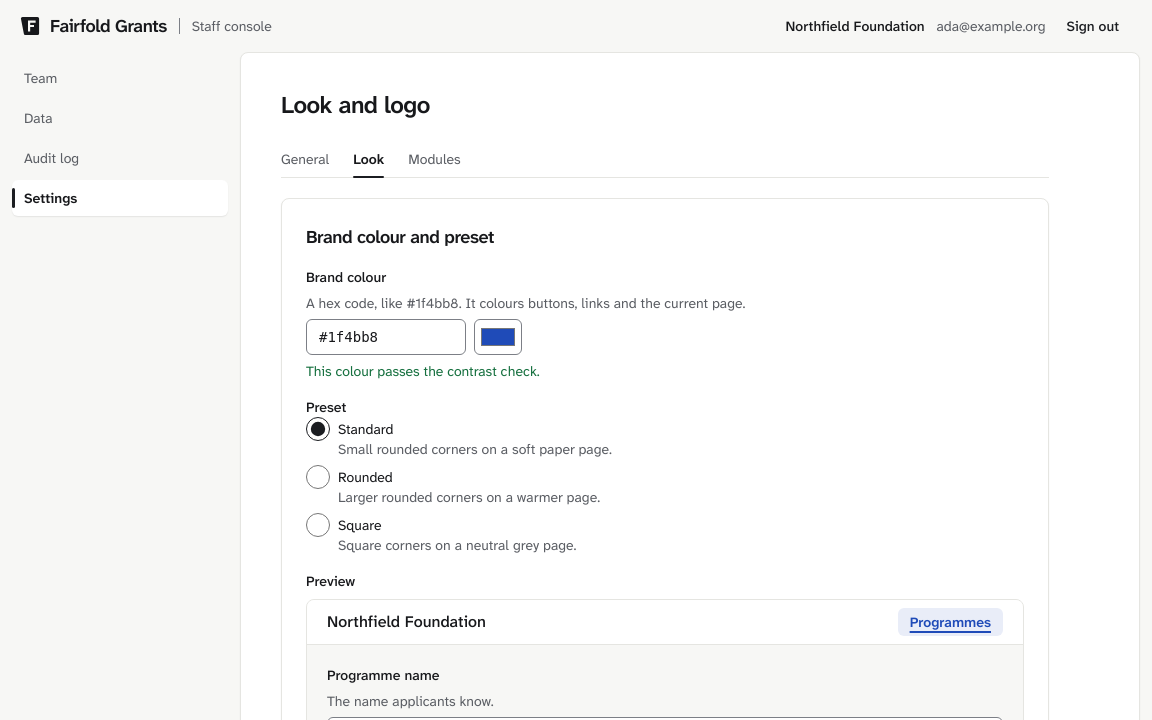
Test case: the look page › refuses a colour that is too light as it is typed: the words, the contrast found and a colour to use
Replace the text in the field labelled "Brand colour" with "#ffee00": (386, 337) [306,319,466,355]
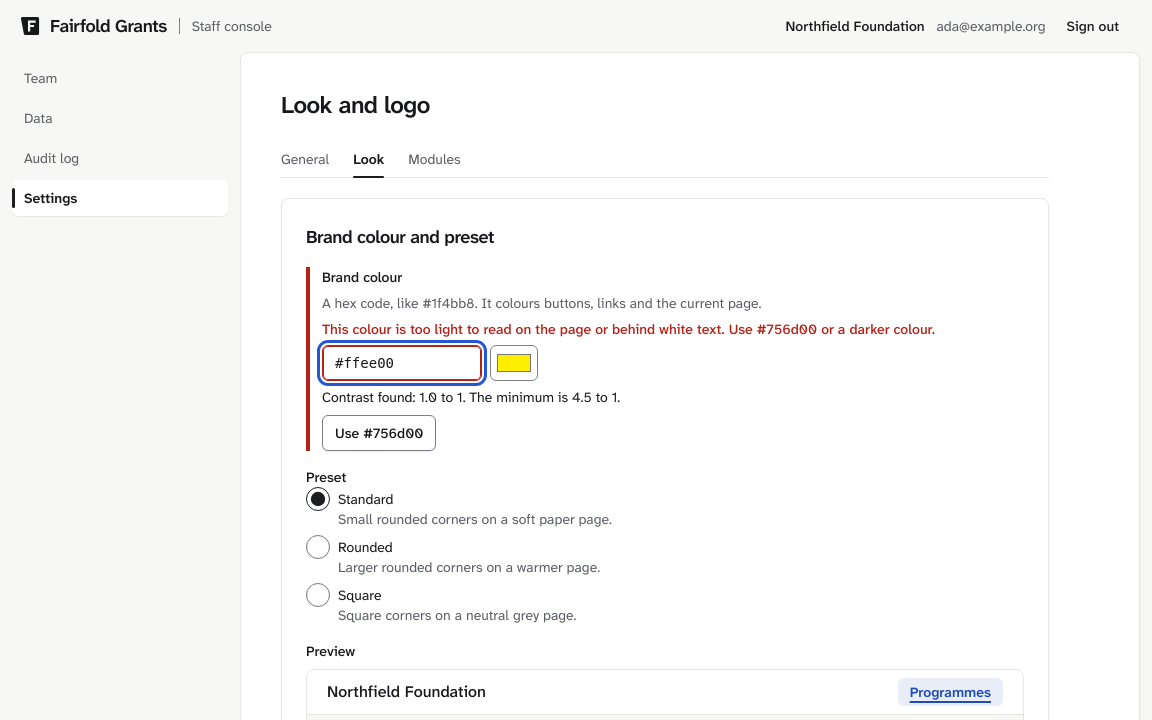
Expected: the text "This colour is too light to read" is shown, [322,320,935,338]
Expected: the text "Contrast found: 1.0 to 1. The minimum is 4.5 to 1." is shown, [322,387,620,407]
Expected: the button "Use #756d00" is shown, [322,415,436,451]
